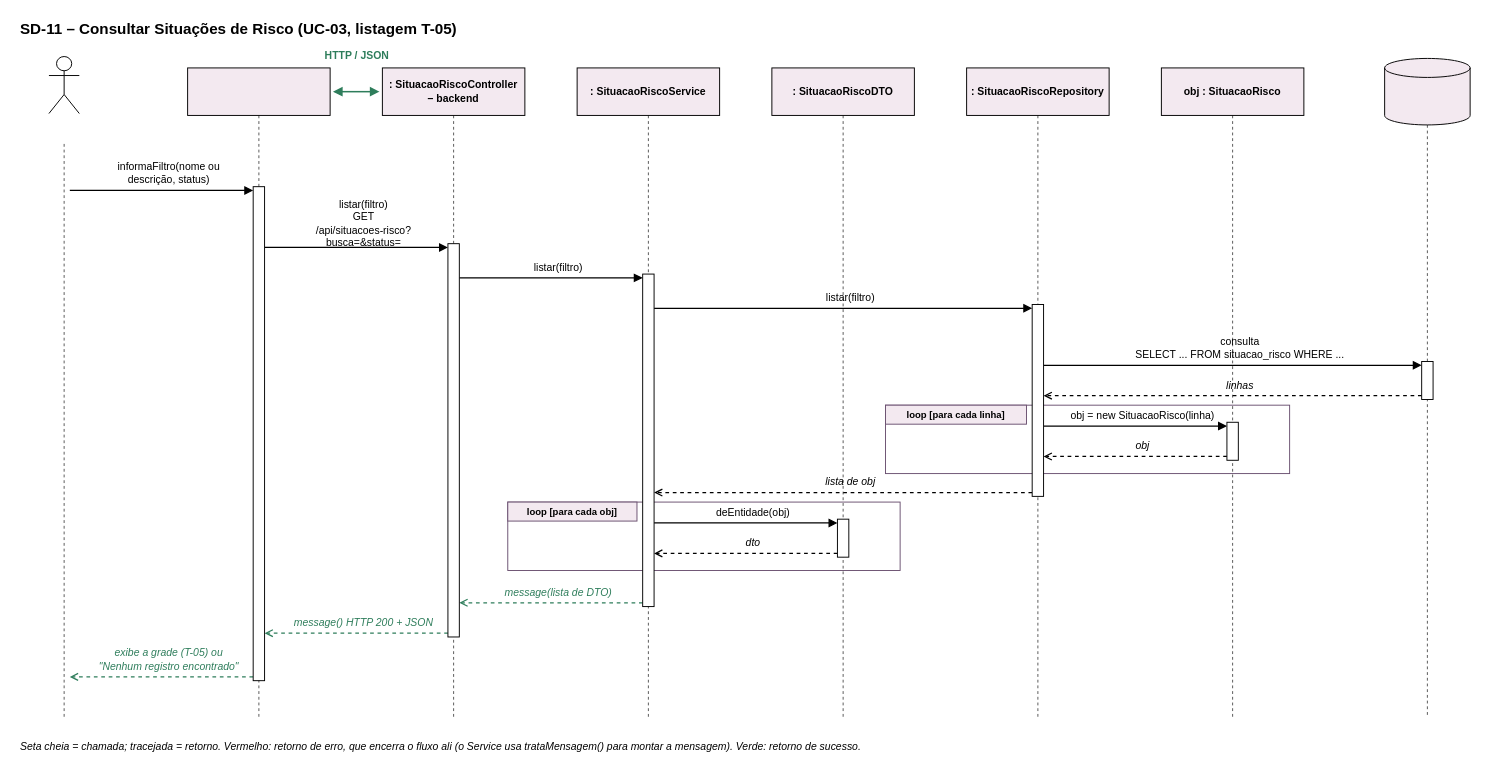
The diagram is 1505 pixels wide and 778 high, and some of its shapes have lost their labels. The box of each missing label's shape, as (x1, y1, x2, y2) in pixels:
: Tela Situações de Risco (T-05) – frontend: (187, 67, 330, 115)
Gerente: (48, 56, 79, 114)
PostgreSQL: (1384, 57, 1470, 125)
